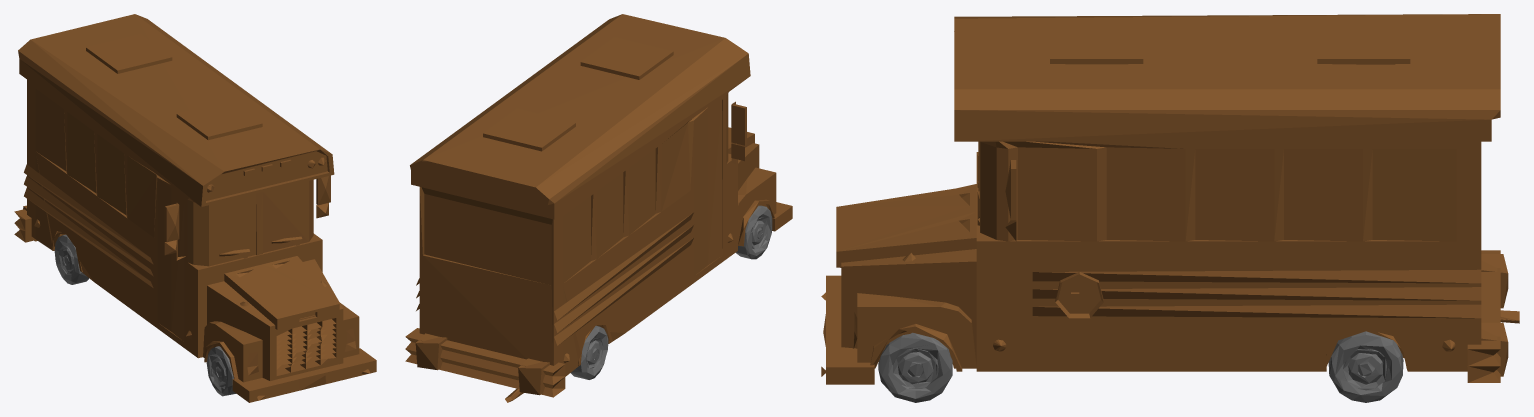
Rendered from school-bus.lod2.glb.
3 renders of one model, left to right at view 1: azimuth 30°, elevation 25°; view 2: azimuth 150°, elevation 25°; view 3: azimuth 270°, elevation 25°, orthographic. The views are drawn at different scales.
Visible parts, largest first — view 1: Object_4; view 2: Object_4; view 3: Object_4.
Boxes of the visible parts, x1=… form: Object_4: x1=14, y1=14, x2=376, y2=402; Object_4: x1=405, y1=14, x2=792, y2=402; Object_4: x1=821, y1=14, x2=1519, y2=402.
Bounding box in the file's own units: 4.41 × 5.55 × 11.
